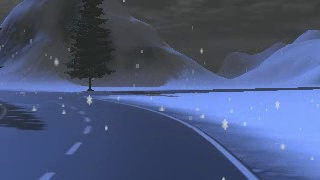Lane: (0, 87, 257, 179)
